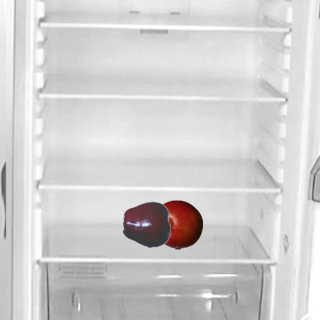Apple Braeburn: (152, 199, 202, 249)
Apple Red Delicious: (122, 199, 172, 249)
